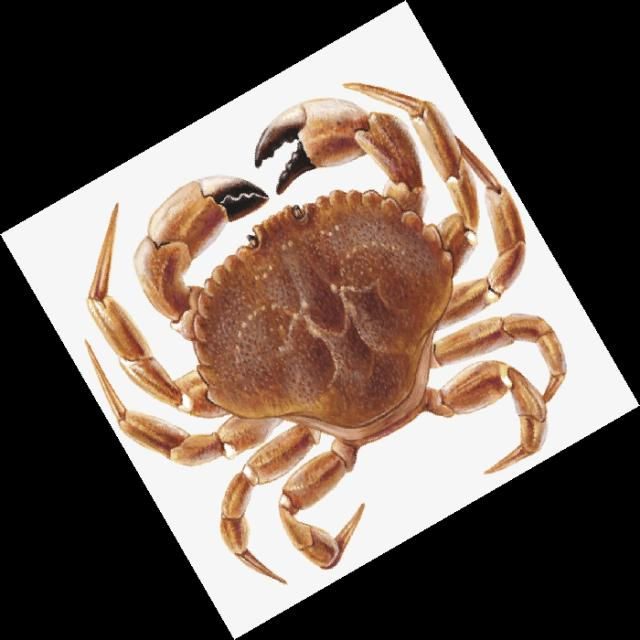Native Jonah crab: (88, 83, 566, 582)
